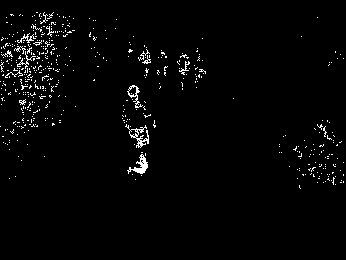person: (121, 83, 156, 178)
